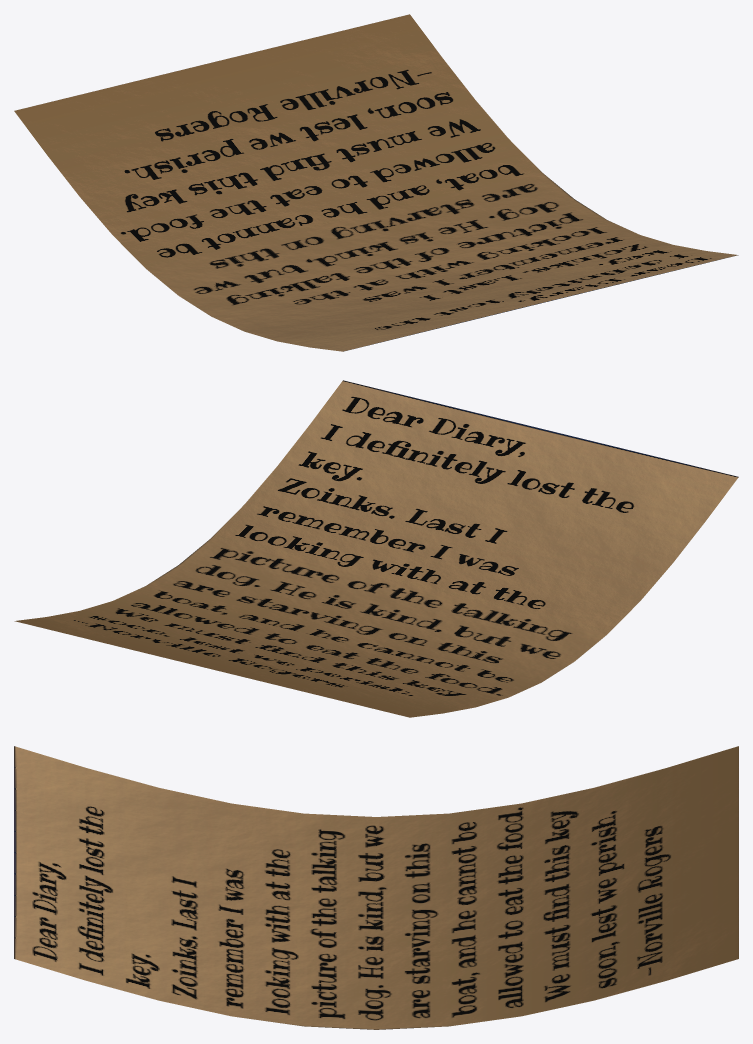
Rendered from clue2.fbx.
3 renders of one model, top to bottom at view 1: azimuth 30°, elevation 25°; view 2: azimuth 150°, elevation 25°; view 3: azimuth 270°, elevation 25°, orthographic. The views are drawn at different scales.
Parts seen in each view (by area): view 1: DiaryPage1; view 2: DiaryPage1; view 3: DiaryPage1.
Boxes of the visible parts, x1,y1,x2,y2 form: DiaryPage1: [14, 14, 738, 351]; DiaryPage1: [14, 380, 738, 717]; DiaryPage1: [14, 746, 738, 1029].
Bounding box in the file's own units: 0.6949 × 0.1081 × 1.
